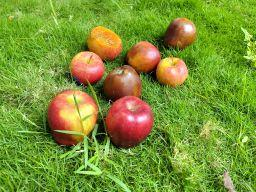apple: (101, 89, 160, 155), (43, 86, 100, 151), (66, 43, 108, 90), (83, 18, 125, 65), (161, 8, 201, 55), (101, 63, 146, 103), (119, 37, 166, 74), (151, 52, 196, 87)
